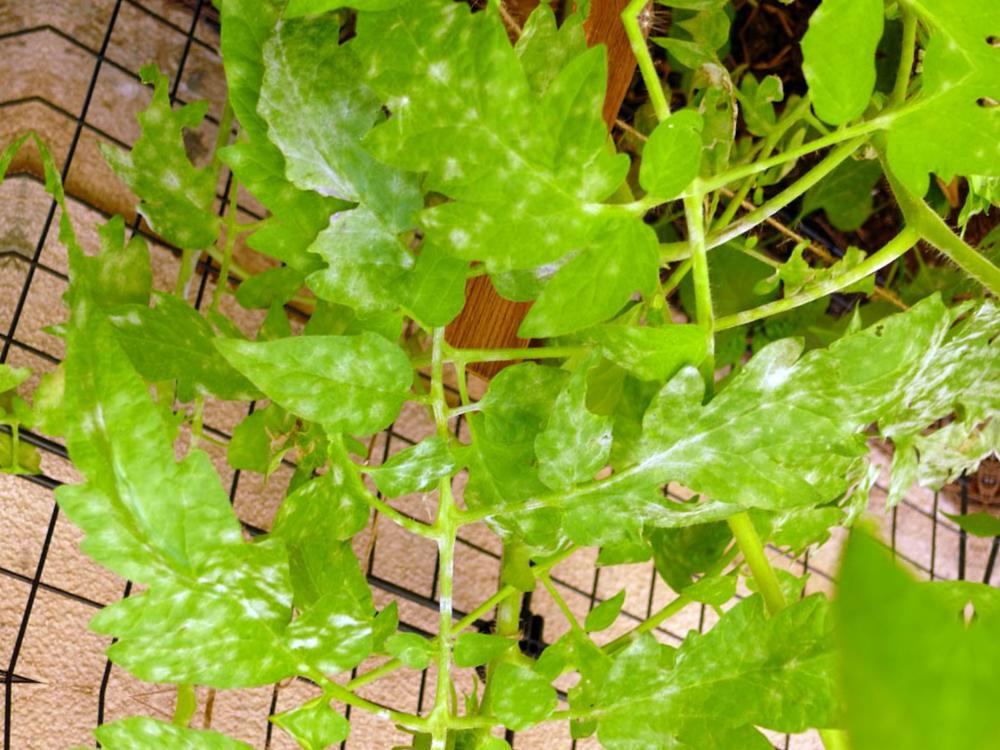Tomato mold leaf: (0, 158, 382, 691), (524, 231, 947, 597), (323, 0, 707, 360), (541, 571, 891, 750), (178, 308, 438, 450), (378, 427, 480, 511)
